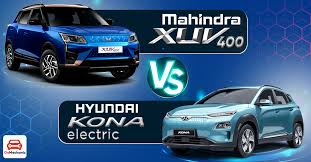XUV 400: (4, 2, 139, 84)
